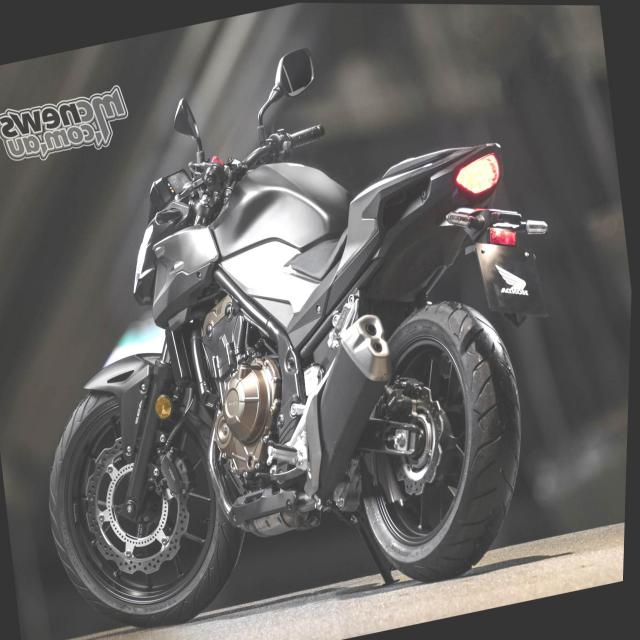CB500F: (0, 73, 591, 639)
